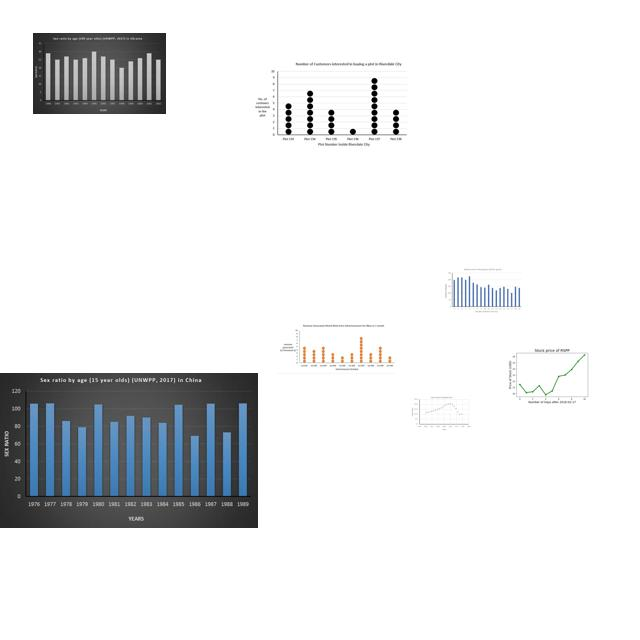Graph: (0, 373, 258, 528), (254, 61, 408, 149), (33, 33, 166, 114), (505, 340, 597, 409), (276, 323, 396, 374), (443, 267, 523, 315), (411, 396, 471, 431)
